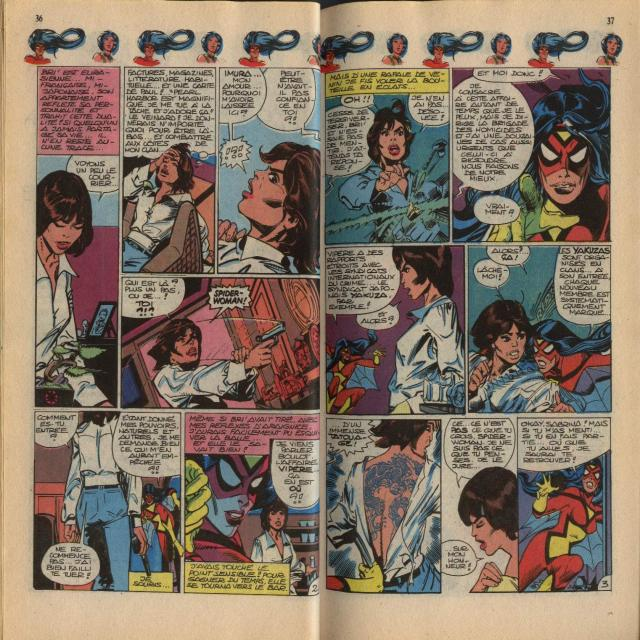comic_panel: (34, 65, 122, 408), (451, 65, 612, 243), (31, 410, 182, 594), (119, 275, 322, 410), (183, 411, 322, 598), (467, 242, 613, 415), (324, 243, 466, 415), (323, 66, 451, 247), (216, 64, 323, 276), (325, 418, 443, 594), (120, 65, 216, 276), (517, 415, 613, 595), (440, 417, 520, 595)
